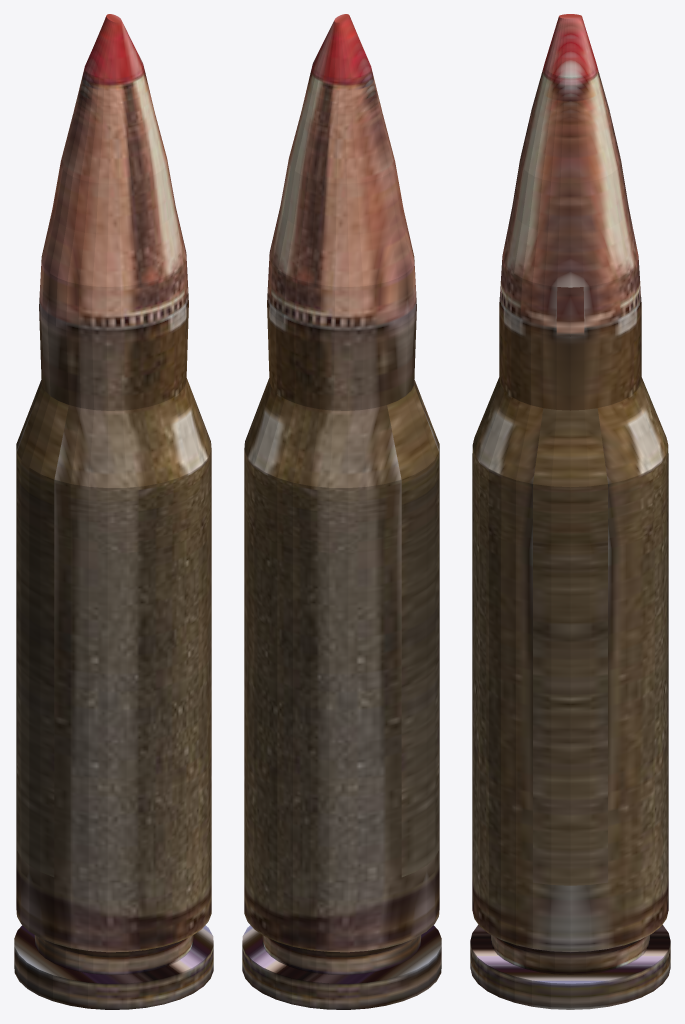
Rendered from Bullet.fbx.
The picture shows the model from 3 angles, left to right: view 1: azimuth 30°, elevation 25°; view 2: azimuth 150°, elevation 25°; view 3: azimuth 270°, elevation 25°; orthographic projection.
Parts seen in each view (by area): view 1: Cylinder; view 2: Cylinder; view 3: Cylinder.
Boxes of the visible parts, bbox=[...] form: Cylinder: bbox=[14, 14, 213, 1009]; Cylinder: bbox=[242, 14, 441, 1009]; Cylinder: bbox=[470, 14, 670, 1009].
Bounding box in the file's own units: 38 × 199 × 38.
